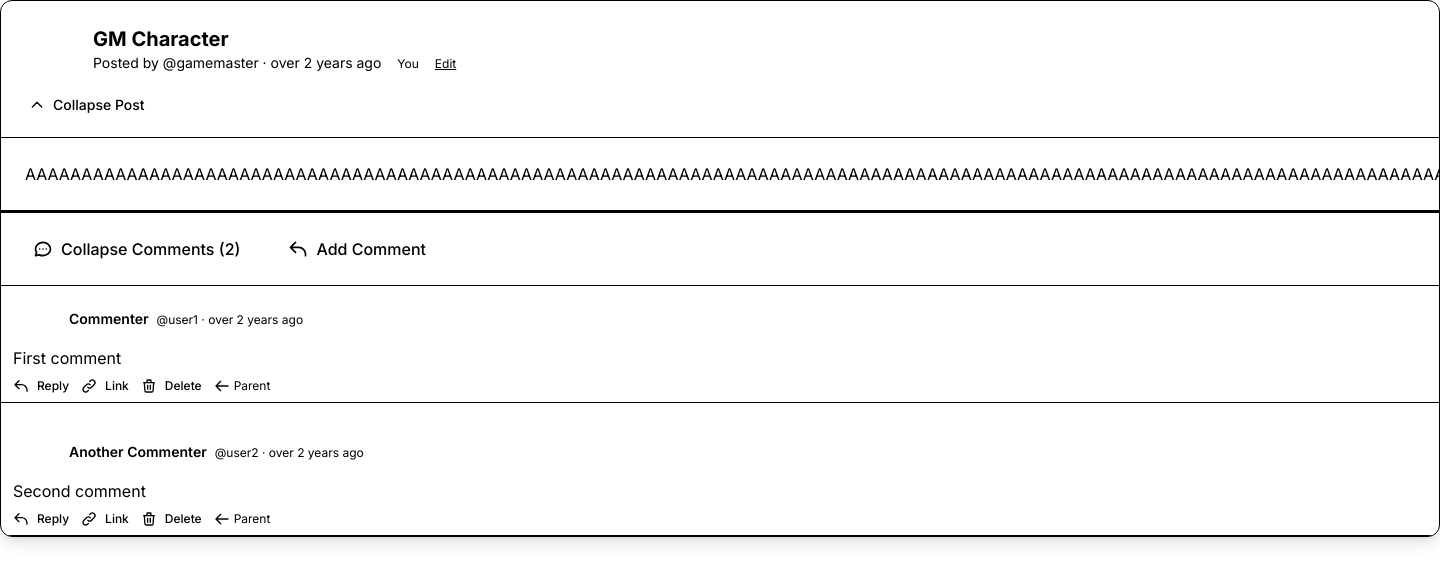
Test: PostCard › Long Content Collapsing › collapses content when collapse button is clicked
The width and height of the screenshot is (1452, 563).
# Click collapse button
Click the button "Collapse Post" at x=87, y=105, box [17,89,156,121]
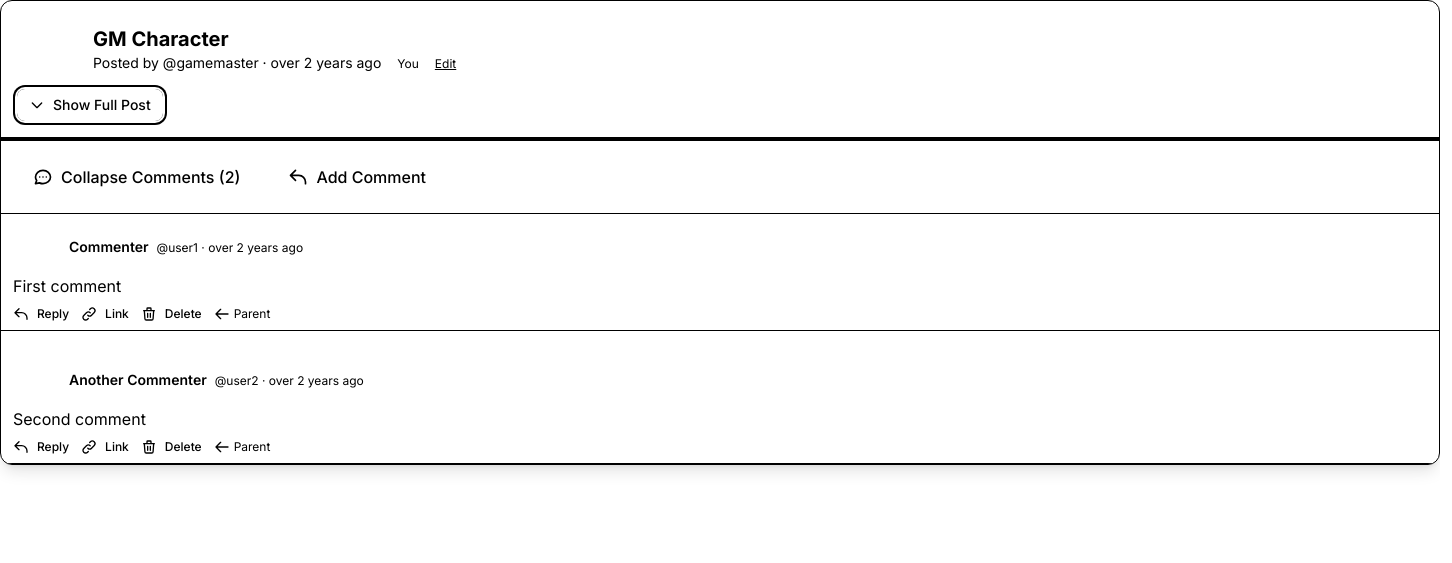
Check: the button "Show Full Post" is shown, box [17,89,163,121]
